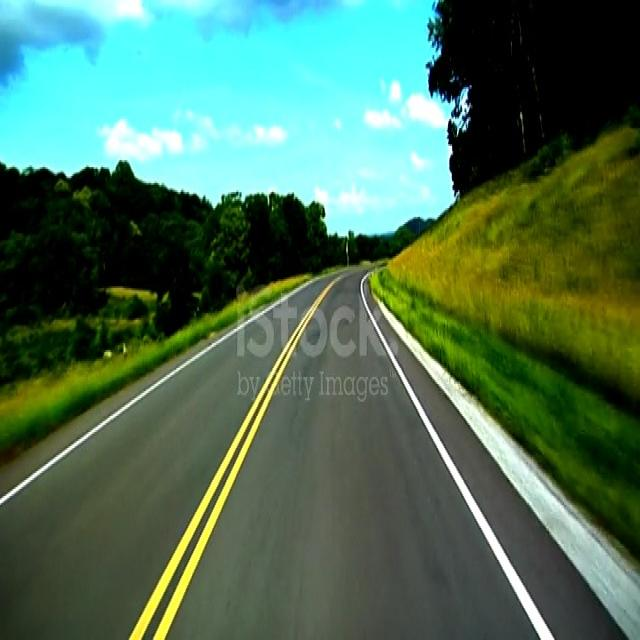lane: (131, 278, 340, 638), (360, 274, 552, 639), (0, 325, 240, 504)
road: (0, 269, 622, 638), (166, 267, 626, 639)
